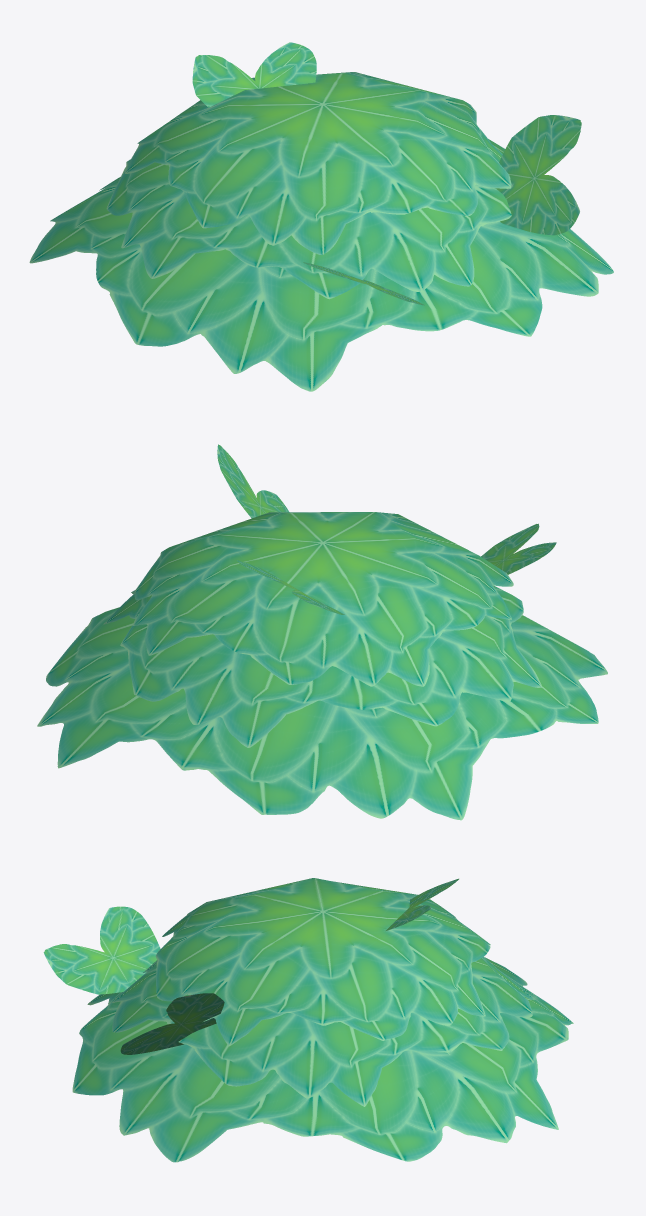
The model's file is Bush.fbx.
3 renders of one model, top to bottom at view 1: azimuth 30°, elevation 25°; view 2: azimuth 150°, elevation 25°; view 3: azimuth 270°, elevation 25°, orthographic. The views are drawn at different scales.
Parts seen in each view (by area): view 1: Bush; view 2: Bush; view 3: Bush.
Part boxes in pixels (box(x1,y1,x2,y2)): Bush: box(29, 42, 613, 391); Bush: box(37, 444, 607, 820); Bush: box(43, 878, 573, 1162).
Bounding box in the file's own units: 421 × 142 × 421.
